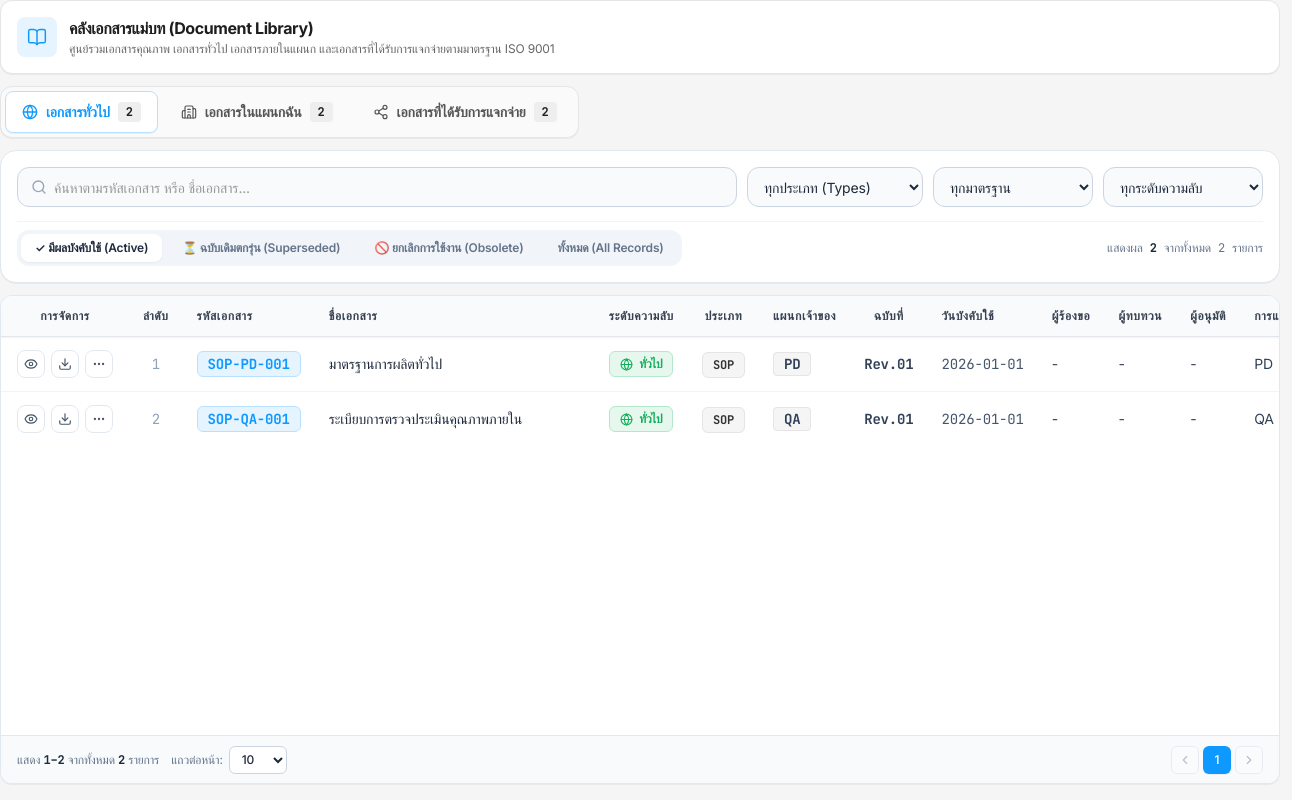
Test case: Library 3-Tier Tab Navigation & 4-Tier Access Scope Integration Tests › 3. Tab "เอกสารในแผนกฉัน" displays ALL PD tiers and hides other departments
What coordinates should you click on to do the following:
click the button "เอกสารในแผนกฉัน 2"
I would click on:
 (257, 112)
Its box is [164,91,350,133].
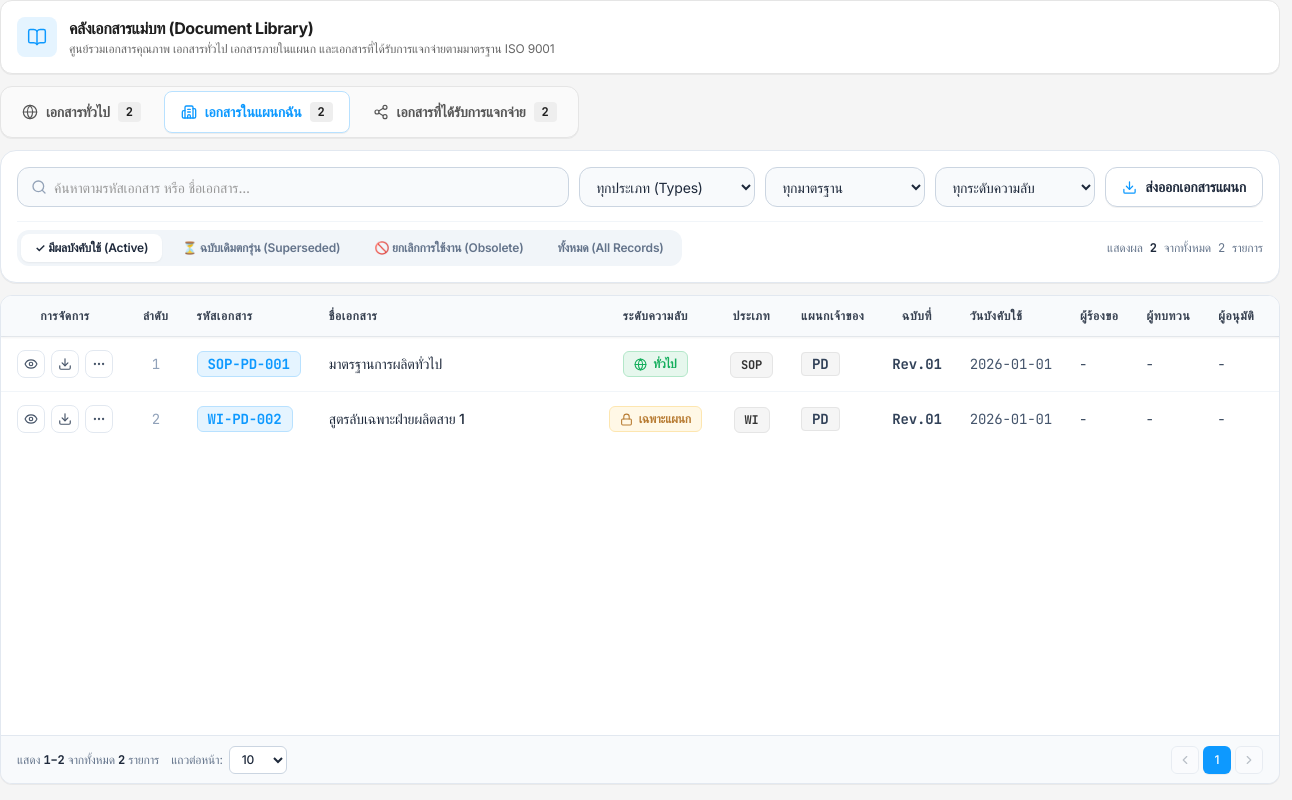
Check: the text "SOP-PD-001" is shown, box [196,351,301,377]
Check: the text "WI-PD-002" is shown, box [196,406,292,432]
Check: the text "SOP-QA-001" is gone
